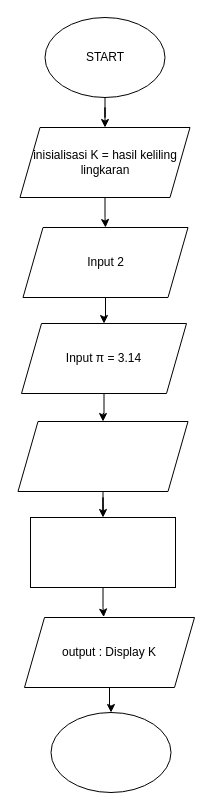
This 212x810 diagram has some shape labels left out. The centre of each missing label's shape, as x and y in pixels:
END: the point at 110,752
input r = jari-jari lingkaran: the point at 102,456
K = 2.π .r dijabarkan K = 2 x 3.14. x r: the point at 103,552
